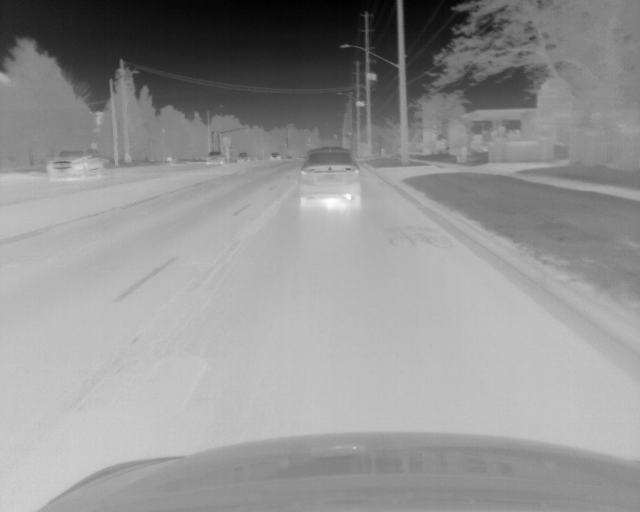car: (300, 148, 361, 206), (46, 148, 101, 181), (205, 151, 225, 166), (238, 152, 250, 161), (269, 153, 280, 161)
